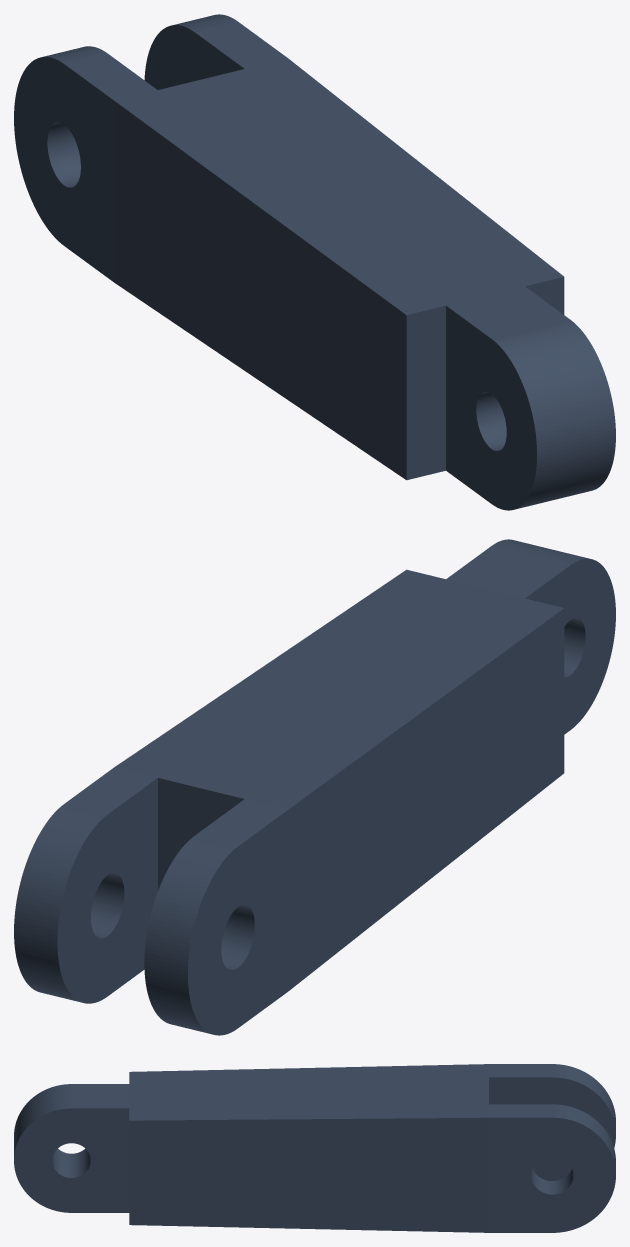
3 views of the same model, one above another, from view 1: azimuth 30°, elevation 25°; view 2: azimuth 150°, elevation 25°; view 3: azimuth 270°, elevation 25° (orthographic). The views are drawn at different scales.
Parts seen in each view (by area): view 1: node; view 2: node; view 3: node.
Boxes of the visible parts, x1,y1,x2,y2 form: node: [14, 14, 615, 510]; node: [14, 539, 615, 1035]; node: [14, 1064, 615, 1232].
Bounding box in the file's own units: 0.106 × 0.106 × 0.5022.
